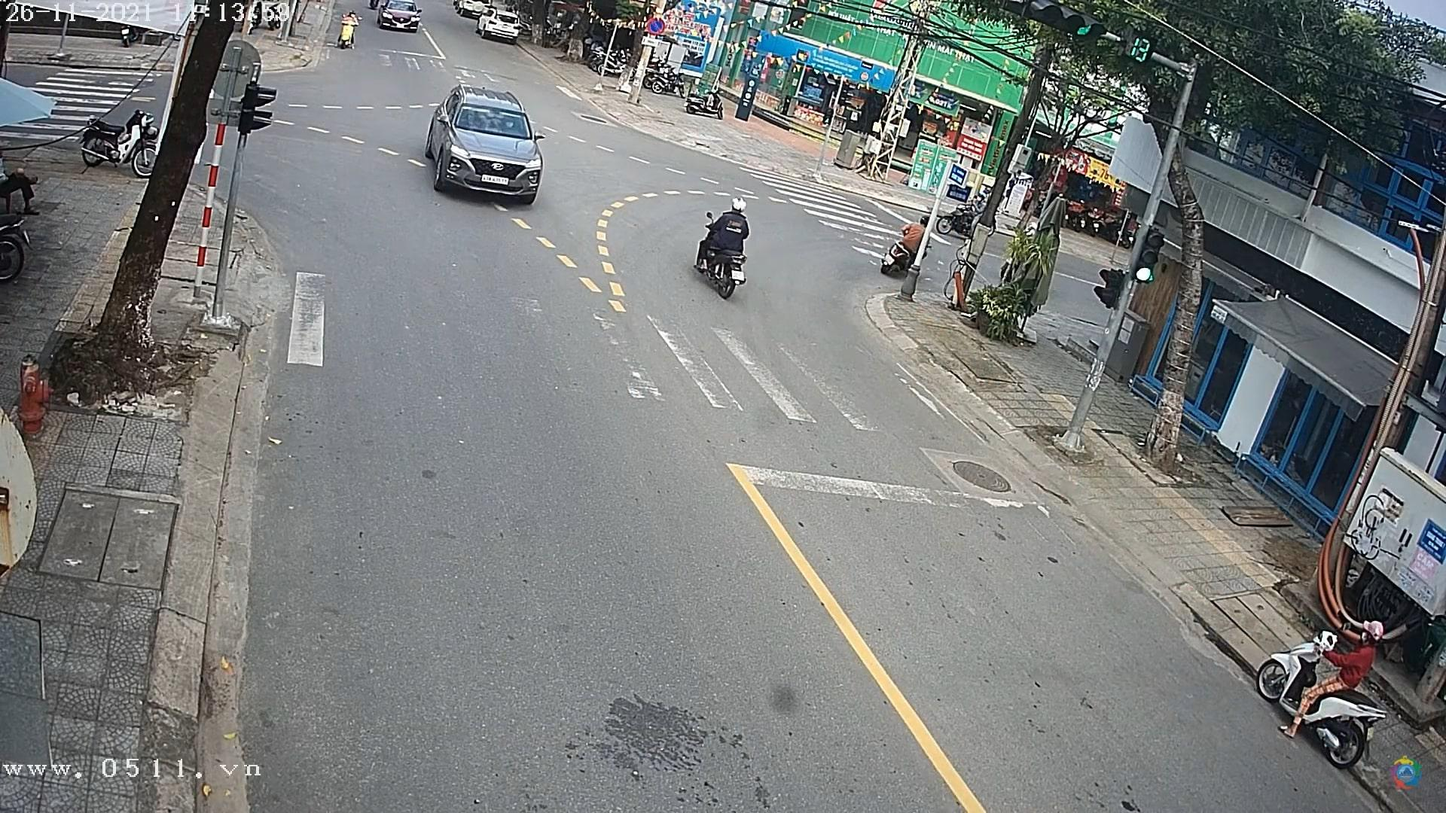car: (428, 86, 546, 205), (373, 2, 420, 32)
